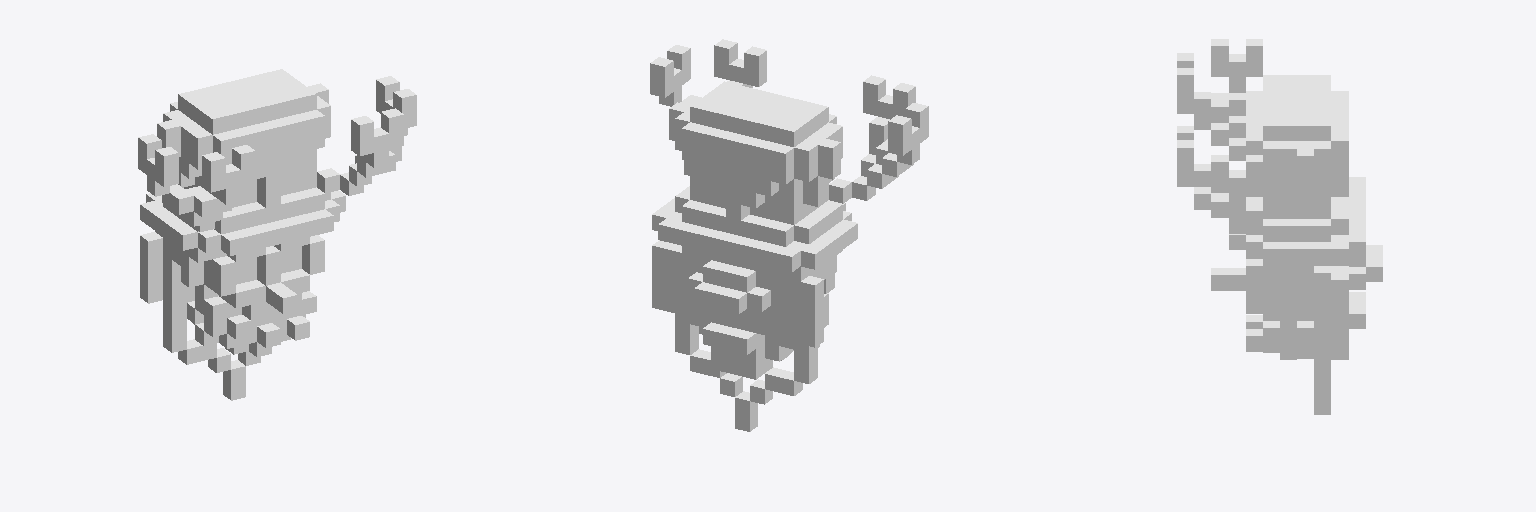
Rendered from vrach-0.obj.
3 renders of one model, left to right at view 1: azimuth 30°, elevation 25°; view 2: azimuth 150°, elevation 25°; view 3: azimuth 270°, elevation 25°, orthographic.
Visible parts, largest first — view 1: object 1; view 2: object 1; view 3: object 1.
Boxes of the visible parts, <box> form: object 1: <box>138,69,416,400</box>; object 1: <box>650,39,928,431</box>; object 1: <box>1177,39,1382,414</box>.
Size of the model in its own units: 1.7 by 2 by 1.2.